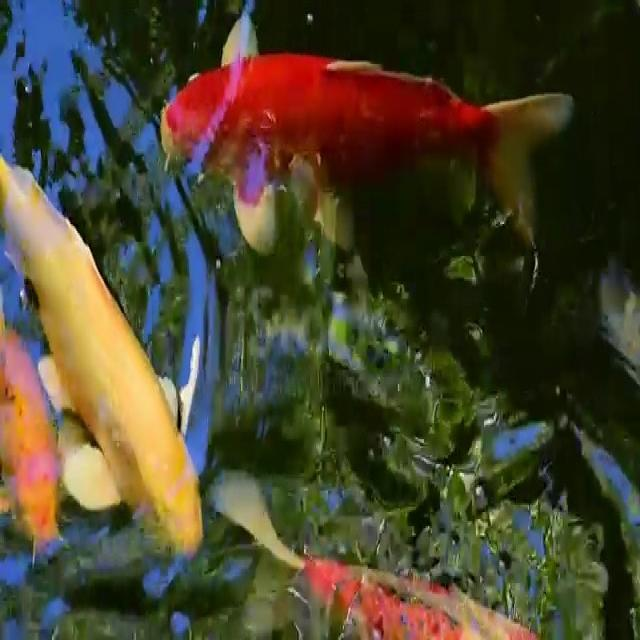fish: (155, 0, 582, 264), (2, 157, 230, 572), (0, 315, 89, 607)
